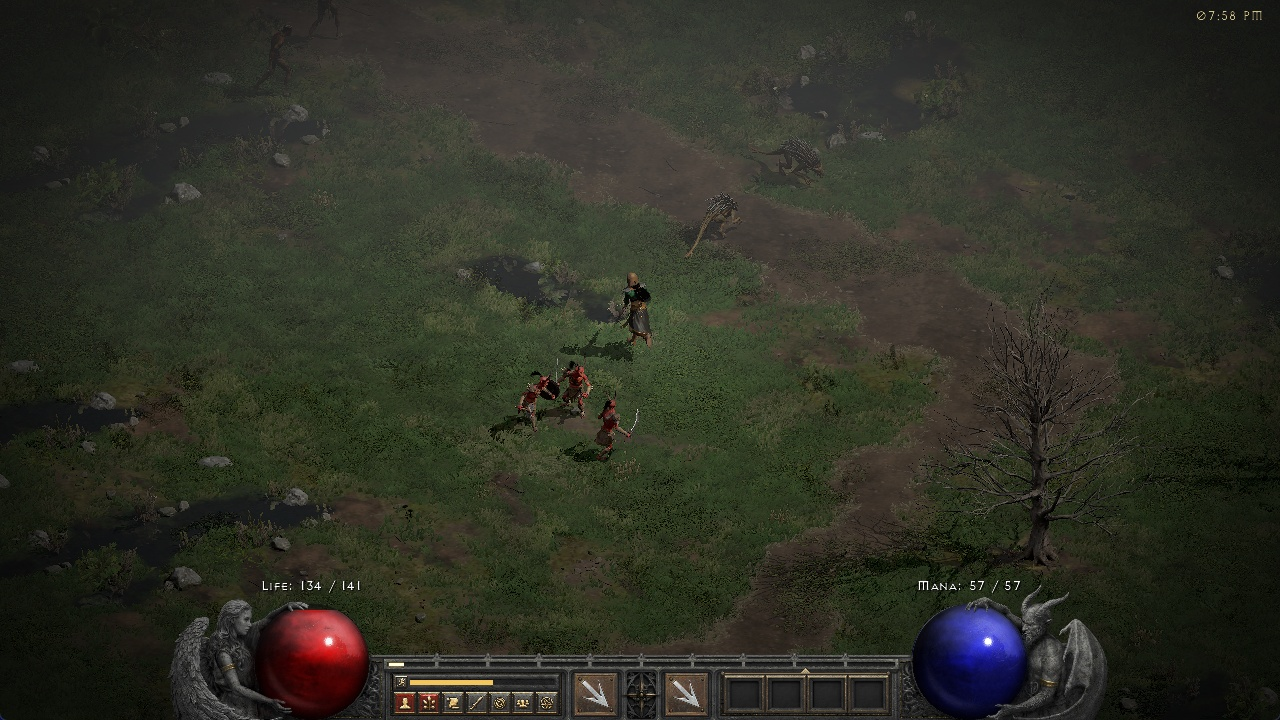fallen: (595, 392, 644, 457), (513, 365, 552, 428), (553, 356, 593, 415)
